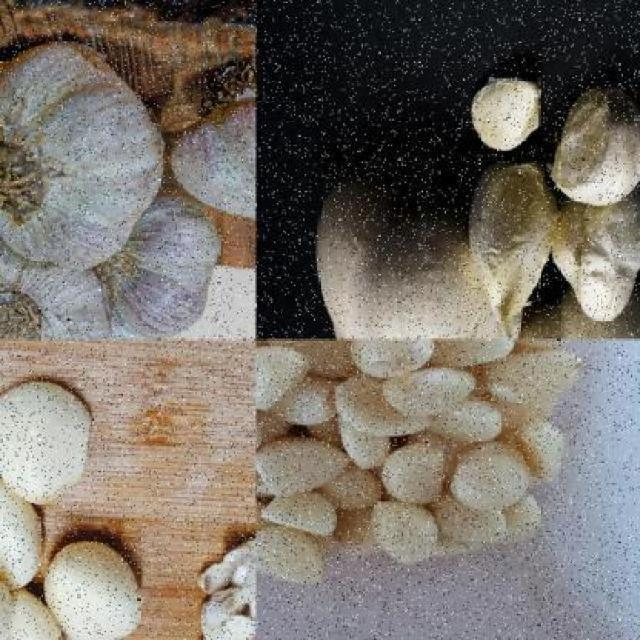garlic: (256, 340, 593, 588), (0, 346, 145, 640), (0, 42, 162, 270), (312, 172, 516, 338), (74, 186, 222, 339), (170, 63, 255, 260), (472, 164, 560, 327), (0, 376, 97, 515), (546, 84, 640, 210), (0, 232, 111, 338), (552, 196, 640, 316), (452, 438, 542, 518), (470, 72, 544, 154), (384, 363, 482, 424)
